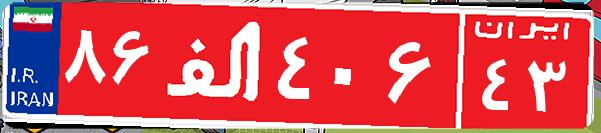0: (330, 28, 385, 110)
3: (525, 38, 570, 115)
4: (273, 28, 330, 110), (475, 38, 525, 113)
6: (385, 28, 445, 110), (110, 28, 158, 105)
8: (57, 26, 110, 107)
الف: (158, 15, 273, 115)
